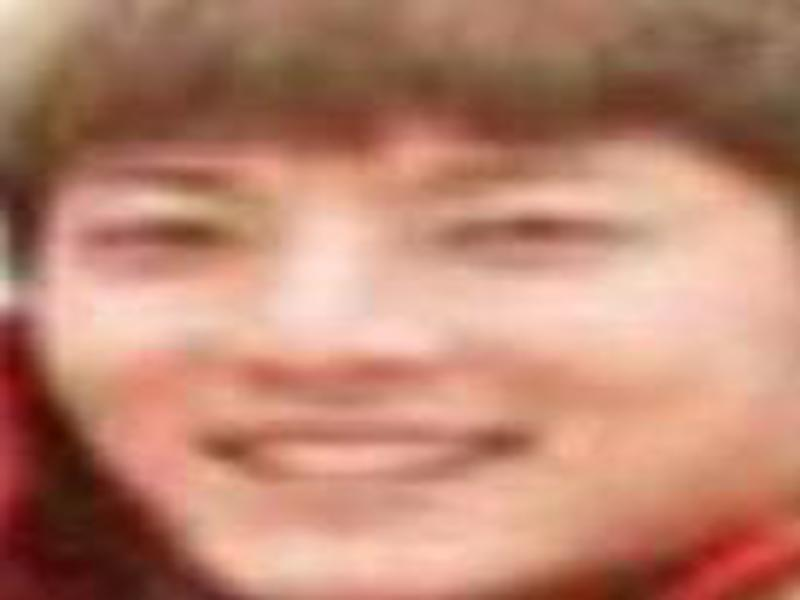without_mask: (33, 127, 772, 599)
